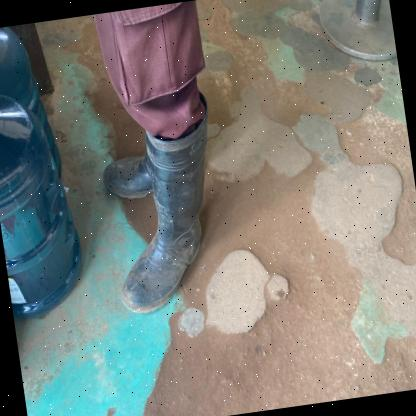bota: (92, 92, 235, 317), (98, 147, 154, 203)
